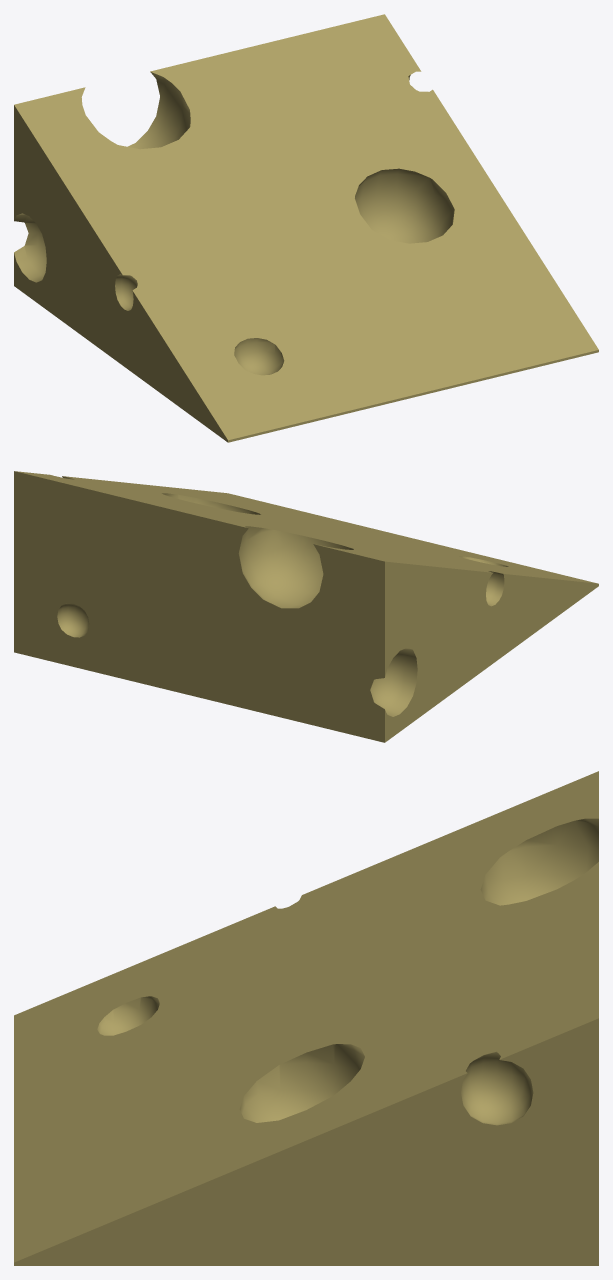
File: FoodCheese.fbx
3 renders of one model, top to bottom at view 1: azimuth 30°, elevation 25°; view 2: azimuth 150°, elevation 25°; view 3: azimuth 270°, elevation 25°, orthographic. The views are drawn at different scales.
Visible parts, largest first — view 1: Cheese; view 2: Cheese; view 3: Cheese.
Boxes of the visible parts, x1,y1,x2,y2 form: Cheese: (14, 14, 598, 442); Cheese: (14, 471, 598, 742); Cheese: (14, 771, 598, 1265).
Bounding box in the file's own units: 15.19 × 7.1 × 15.19.
